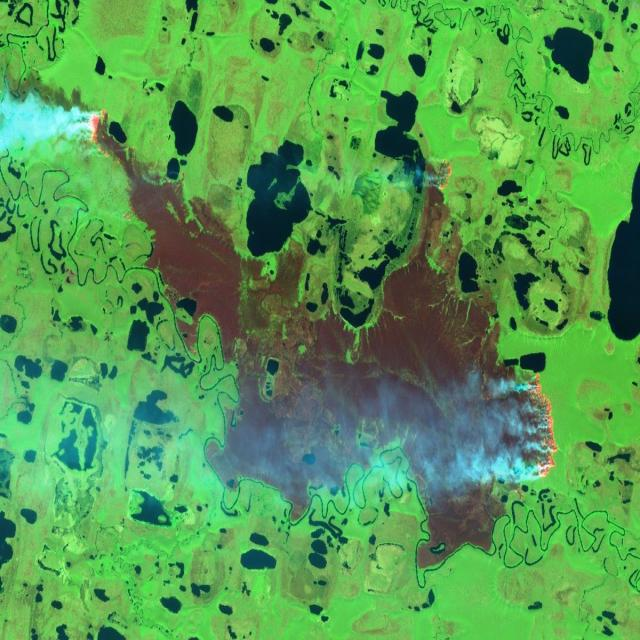fire: (78, 100, 135, 170), (526, 365, 560, 482), (423, 153, 468, 200)
